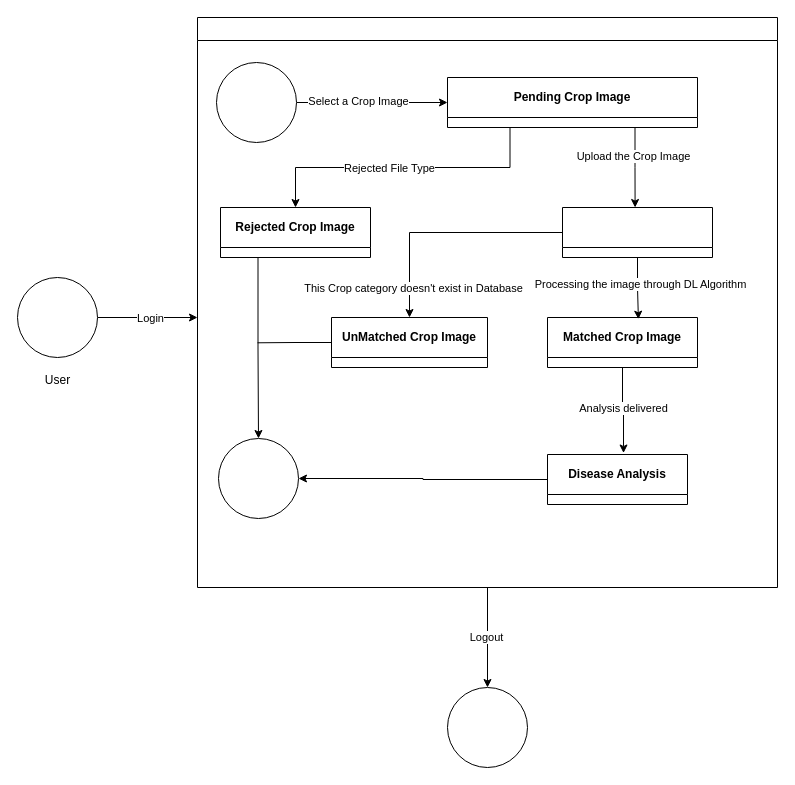
The diagram is 795 pixels wide and 785 high, and some of its shapes have lost their labels. The box of each missing label's shape, as (x1, y1, x2, y2) in pixels:
Accepted Crop Image: (562, 206, 712, 258)
User LoggedIn: (196, 16, 778, 588)
